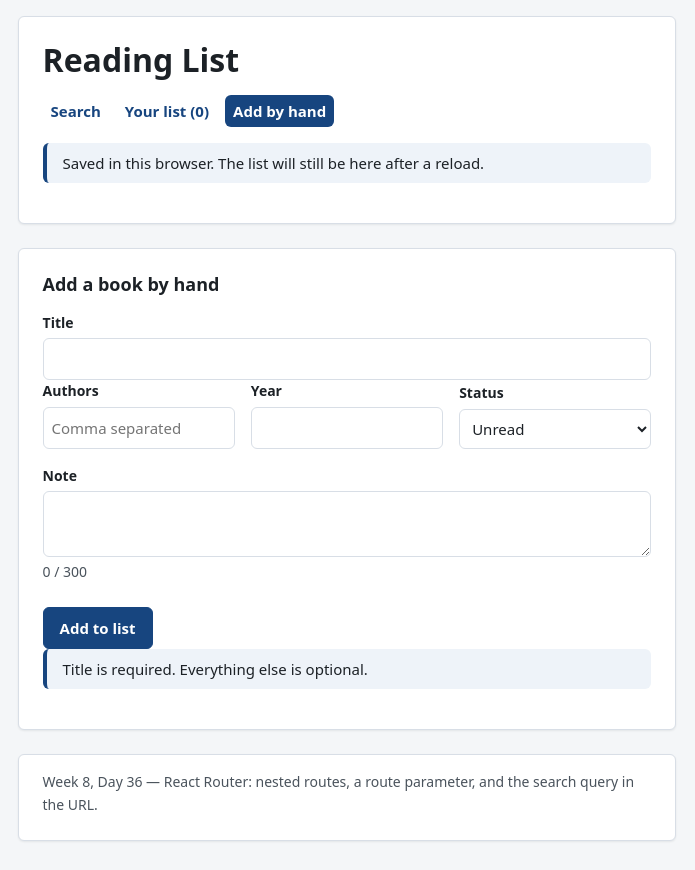
it: adding by hand › adds a book and navigates to the list
Type "By Hand" into the field labelled "Title" at (347, 359), box x1=42 y1=338 x2=651 y2=380
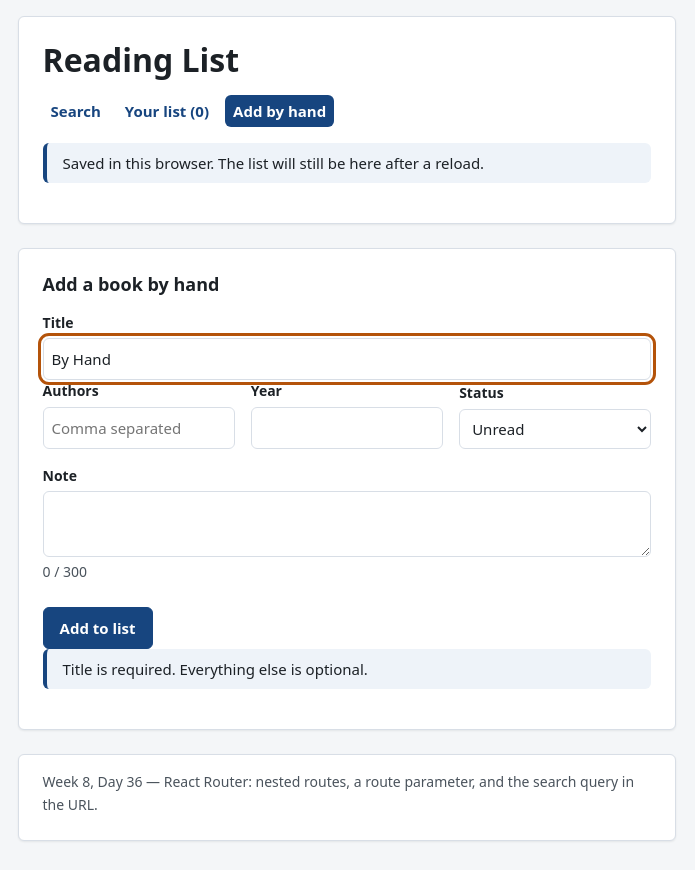
Type "Someone" into the field labelled "Authors" at (139, 428), box x1=42 y1=407 x2=235 y2=449
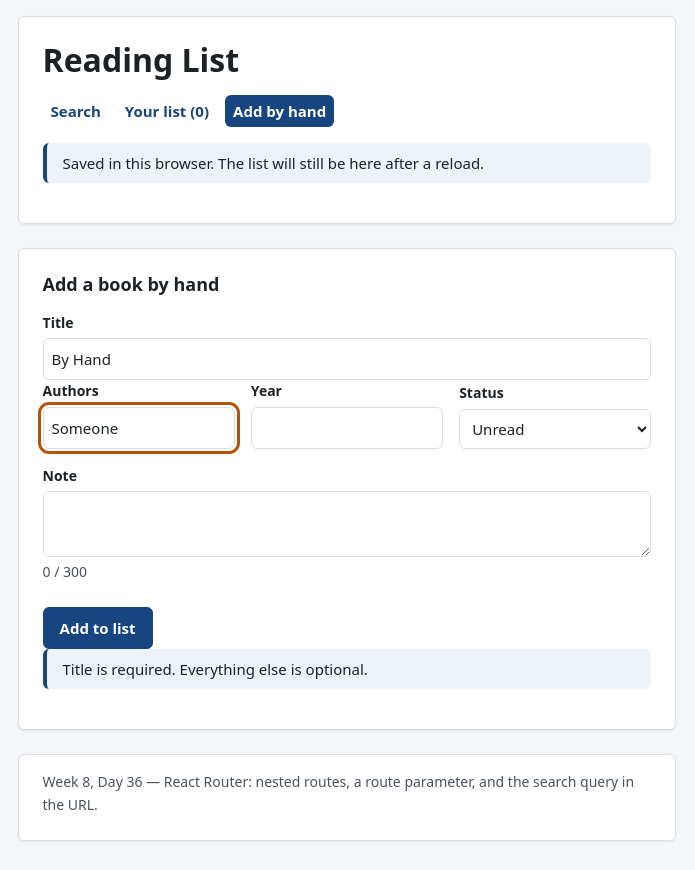
Click the button "Add to list" at (98, 628), box x1=42 y1=608 x2=153 y2=650
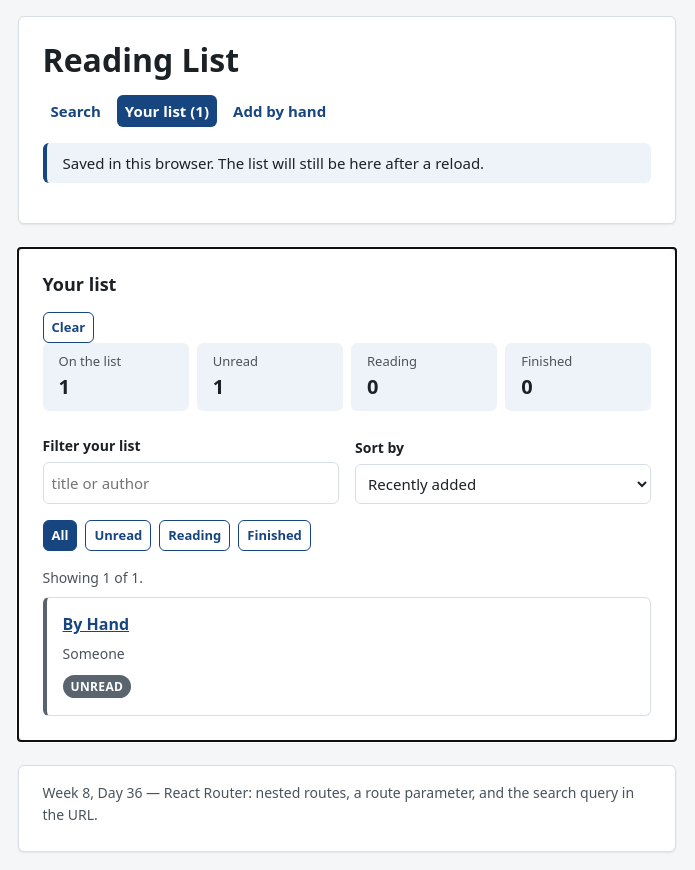
Expected: the link "By Hand" is shown, x1=62 y1=613 x2=129 y2=635
Expected: the heading "Your list" is shown, x1=42 y1=272 x2=116 y2=296
